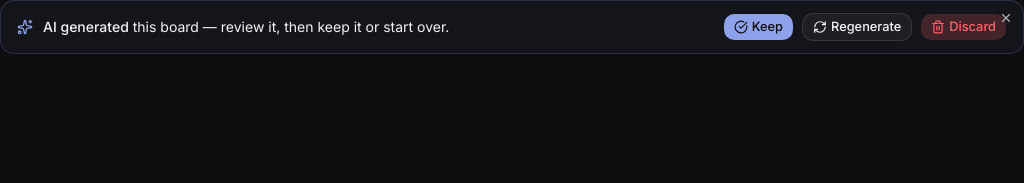
AiBoardReviewBanner › surfaces a delete failure in an alert
The width and height of the screenshot is (1024, 183).
Step 1. Click the button with aria-label "discard this board" → point(964, 27), box [920,13,1007,41]
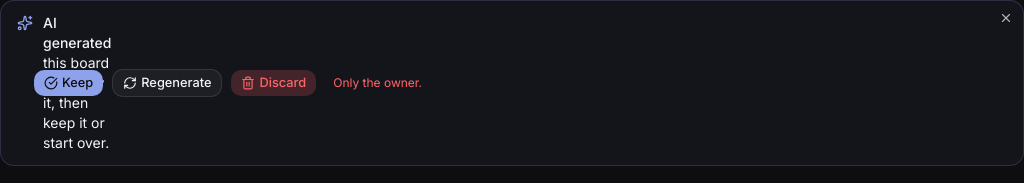
Expected: the message reads "Only the owner.", [333,75,422,90]
